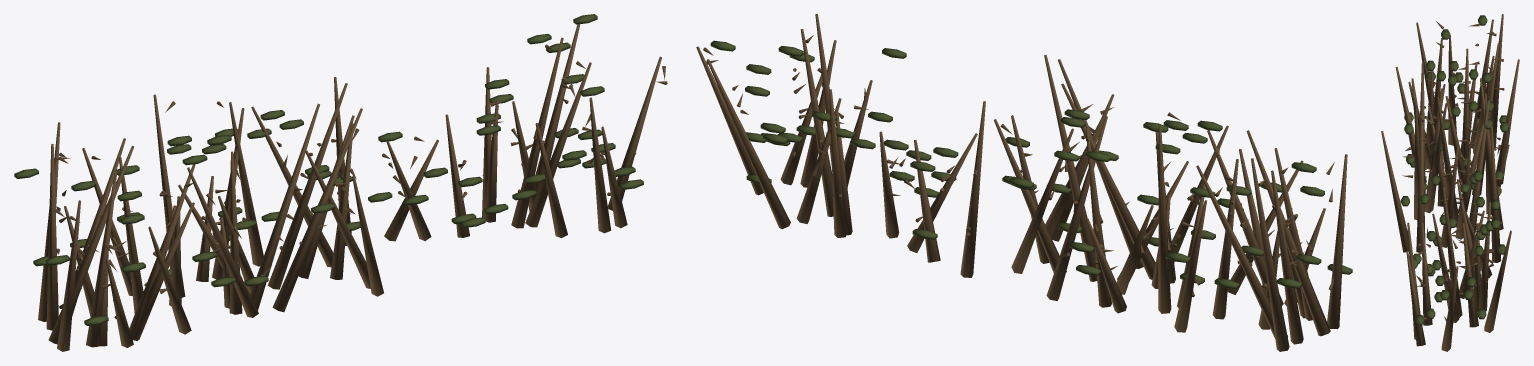
The model's file is dornenwall.glb.
3 renders of one model, left to right at view 1: azimuth 30°, elevation 25°; view 2: azimuth 150°, elevation 25°; view 3: azimuth 270°, elevation 25°, orthographic. The views are drawn at different scales.
Visible parts, largest first — view 1: Cone; view 2: Cone; view 3: Cone.
Part boxes in pixels (x1,y1,x2,y2): Cone: (14, 14, 667, 351); Cone: (696, 14, 1352, 351); Cone: (1381, 14, 1519, 351).
Size of the model in its own units: 4.33 by 1.31 by 1.09.
